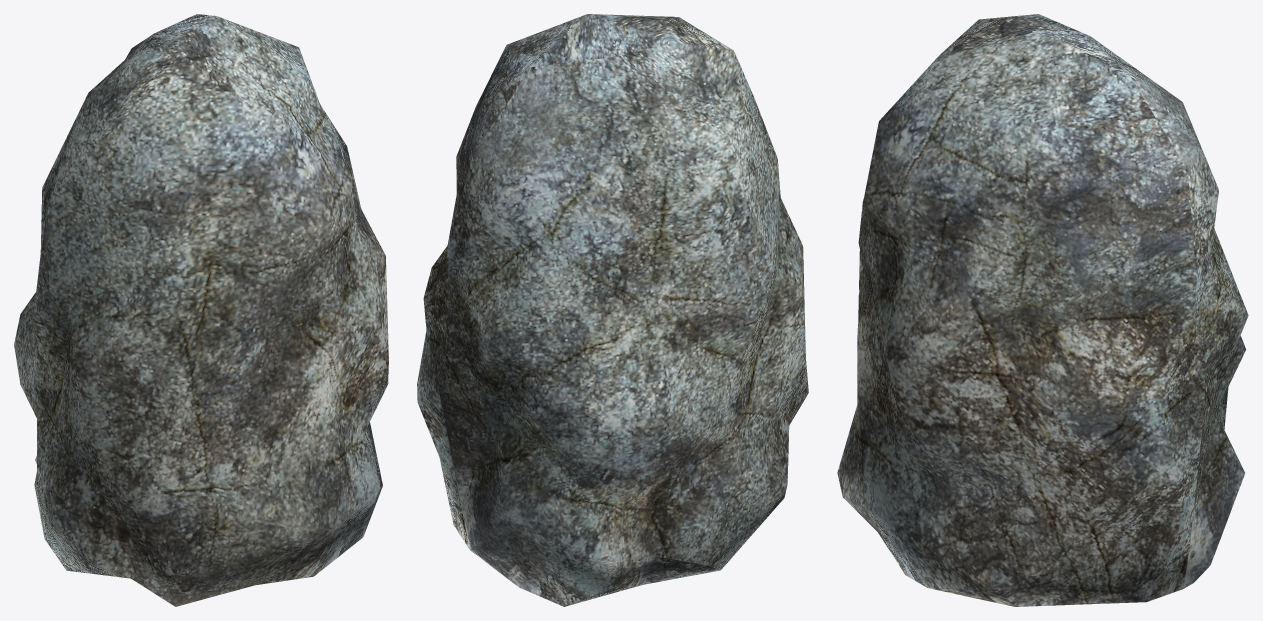
File: Rock5C.fbx
3 renders of one model, left to right at view 1: azimuth 30°, elevation 25°; view 2: azimuth 150°, elevation 25°; view 3: azimuth 270°, elevation 25°, orthographic. The views are drawn at different scales.
Parts seen in each view (by area): view 1: polySurface9; view 2: polySurface9; view 3: polySurface9.
Part boxes in pixels (bbox=[...]): polySurface9: bbox=[14, 14, 388, 606]; polySurface9: bbox=[417, 14, 808, 606]; polySurface9: bbox=[837, 14, 1248, 606].
Size of the model in its own units: 2.92 by 4.61 by 3.11.
